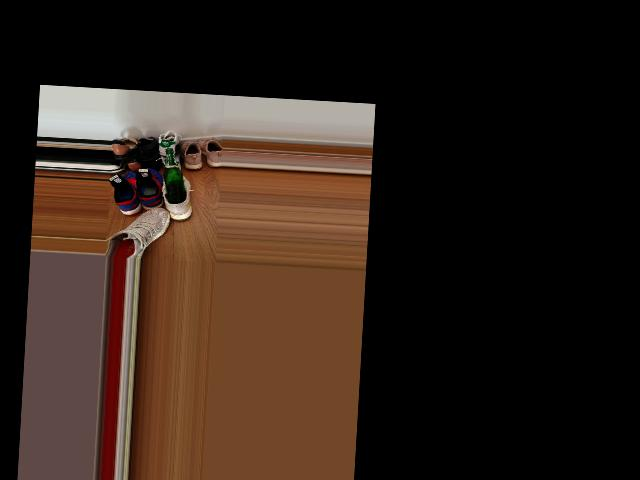beer: (161, 148, 188, 204)
